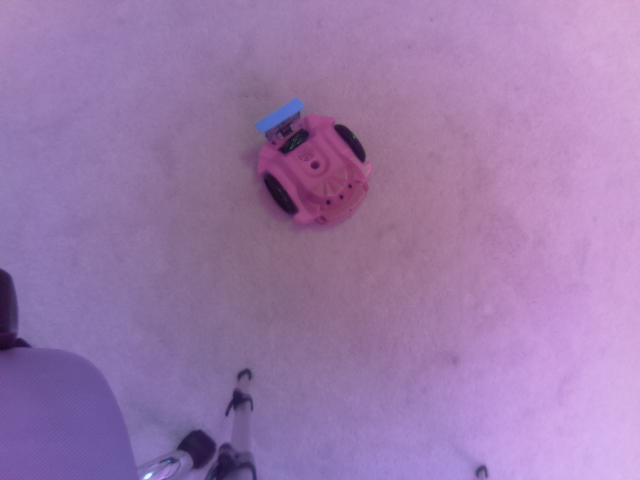board: (256, 96, 305, 135)
chassis: (252, 84, 374, 232)
